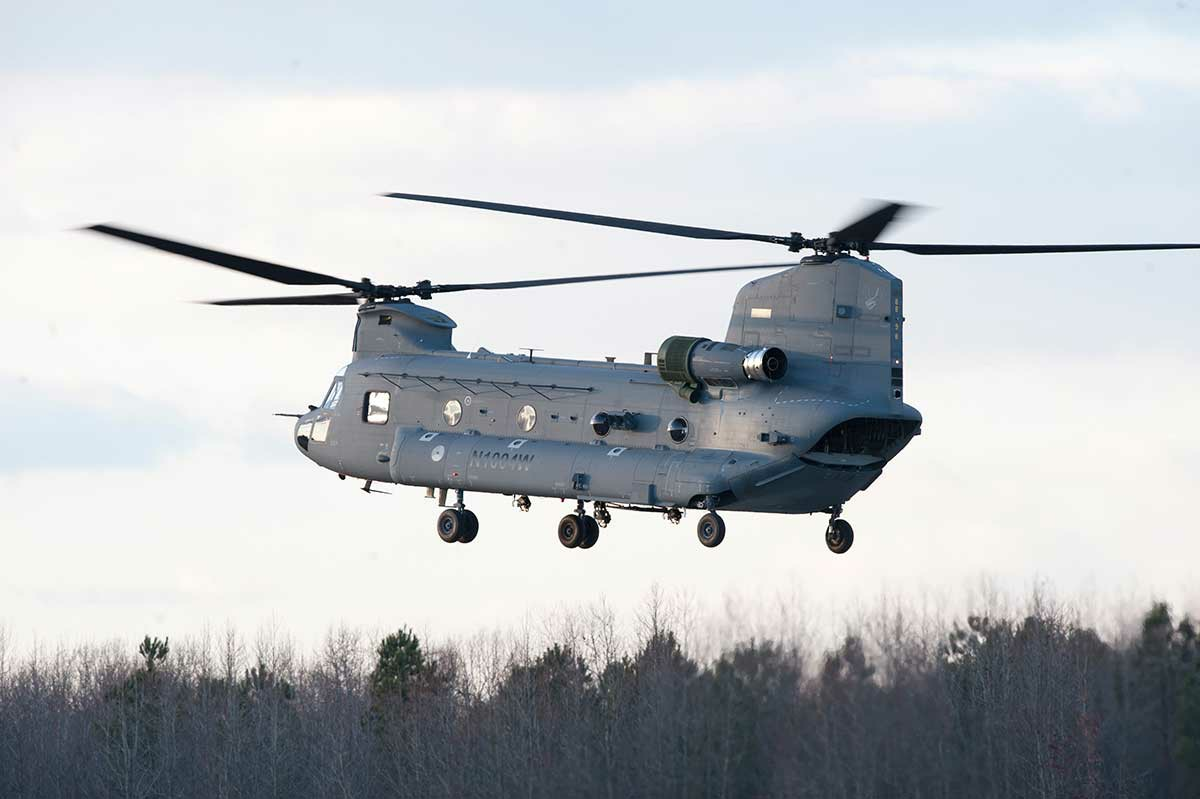chinook: (235, 186, 929, 570)
